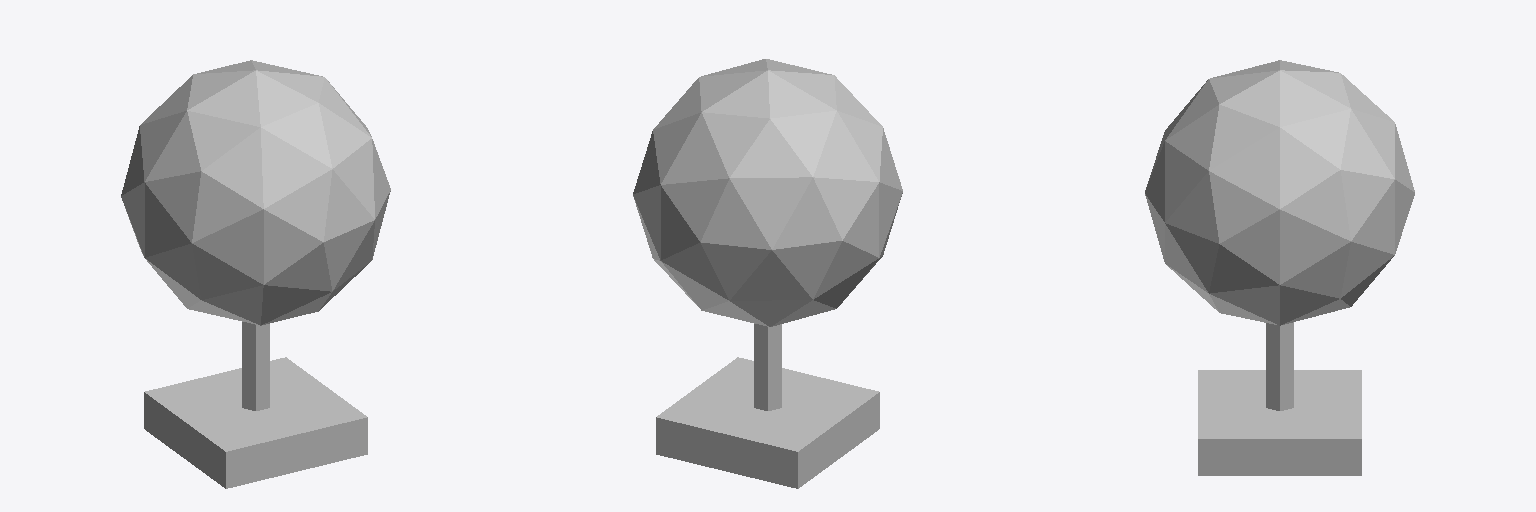
Rendered from TREE.obj.
3 renders of one model, left to right at view 1: azimuth 30°, elevation 25°; view 2: azimuth 150°, elevation 25°; view 3: azimuth 270°, elevation 25°, orthographic.
Visible parts, largest first — view 1: TREE; view 2: TREE; view 3: TREE.
Boxes of the visible parts, x1,y1,x2,y2 form: TREE: [121, 60, 390, 488]; TREE: [633, 59, 902, 488]; TREE: [1145, 60, 1414, 475].
Bounding box in the file's own units: 3.14 × 4.99 × 3.3.